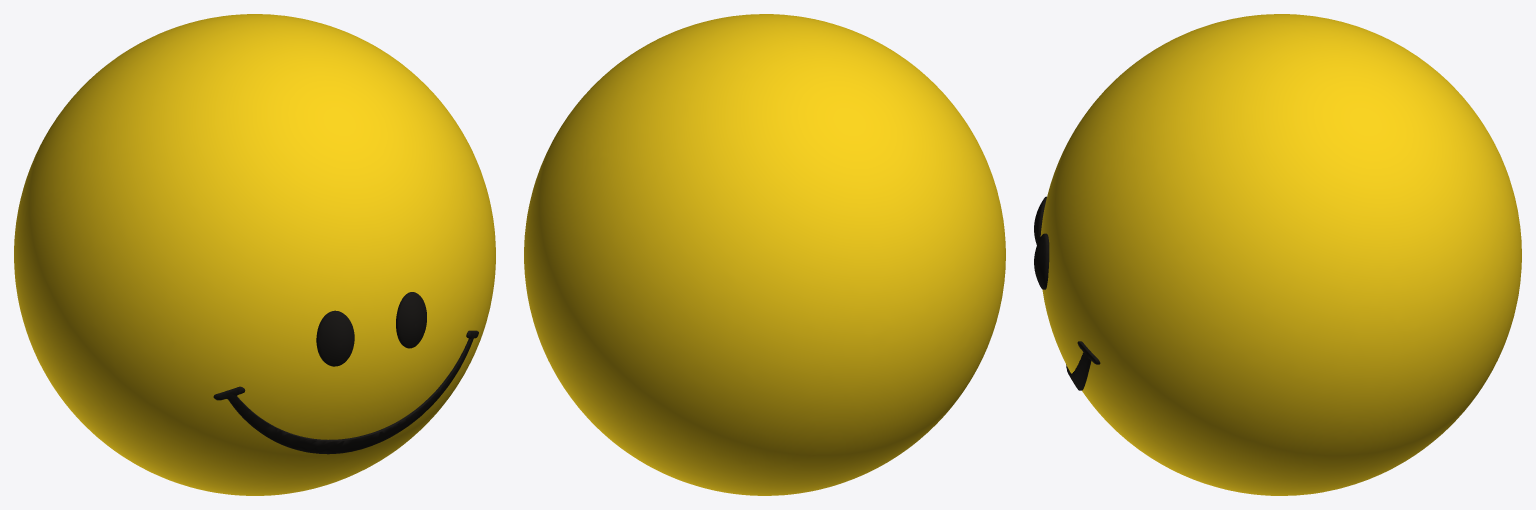
File: verity_roblox.glb
3 renders of one model, left to right at view 1: azimuth 30°, elevation 25°; view 2: azimuth 150°, elevation 25°; view 3: azimuth 270°, elevation 25°, orthographic.
Visible parts, largest first — view 1: Verity_Body, Verity_Mouth, Verity_Eyes; view 2: Verity_Body; view 3: Verity_Body, Verity_Eyes, Verity_Mouth.
Part boxes in pixels (left/top/right/bottom): Verity_Body: left=14, top=14, right=495, bottom=495; Verity_Mouth: left=213, top=330, right=478, bottom=454; Verity_Eyes: left=316, top=292, right=426, bottom=366; Verity_Body: left=524, top=14, right=1005, bottom=495; Verity_Body: left=1040, top=14, right=1521, bottom=495; Verity_Eyes: left=1034, top=196, right=1049, bottom=289; Verity_Mouth: left=1066, top=341, right=1100, bottom=390.
Size of the model in its own units: 2.2 by 2.15 by 2.23.
2 materials, 2 textured.
